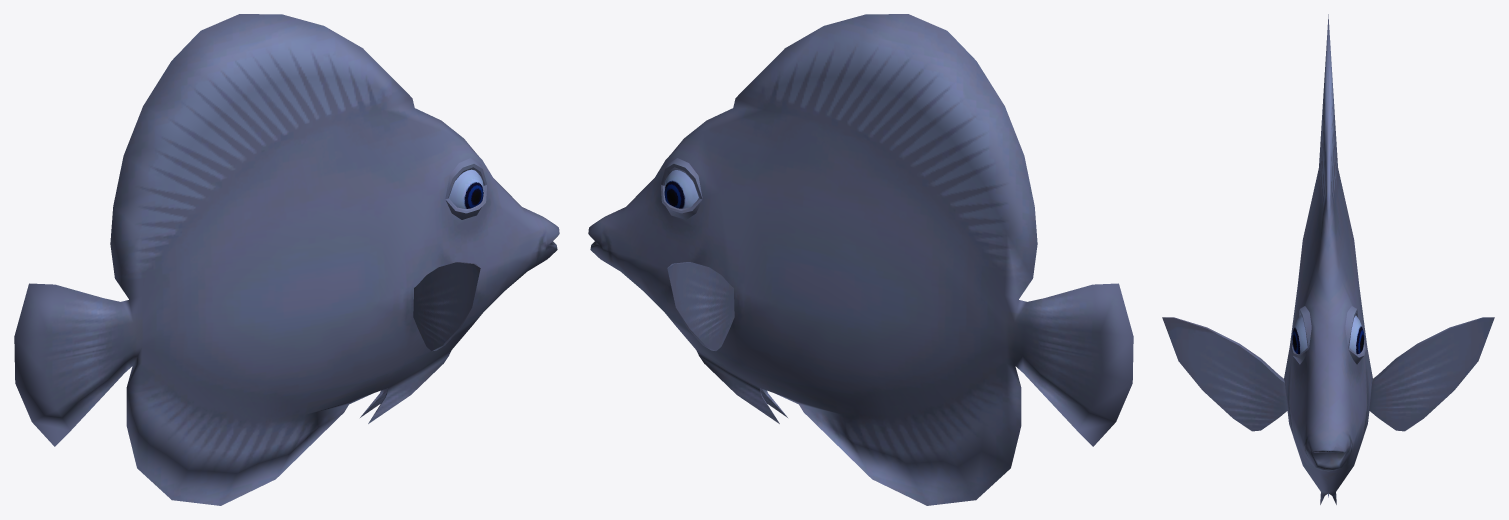
File: BlueFish.fbx
3 renders of one model, left to right at view 1: azimuth 30°, elevation 25°; view 2: azimuth 150°, elevation 25°; view 3: azimuth 270°, elevation 25°, orthographic. The views are drawn at different scales.
Parts seen in each view (by area): view 1: node_id46, node_id48; view 2: node_id46, node_id50; view 3: node_id46, node_id48, node_id50.
Boxes of the visible parts, x1,y1,x2,y2 form: node_id46: [14, 14, 559, 505]; node_id48: [449, 169, 484, 208]; node_id46: [588, 14, 1133, 505]; node_id50: [664, 170, 698, 208]; node_id46: [1162, 14, 1494, 504]; node_id48: [1292, 315, 1307, 354]; node_id50: [1349, 315, 1364, 354].
Size of the model in its own units: 0.512 by 0.4408 by 0.2838.
Materials: 3 (3 with a texture image).
